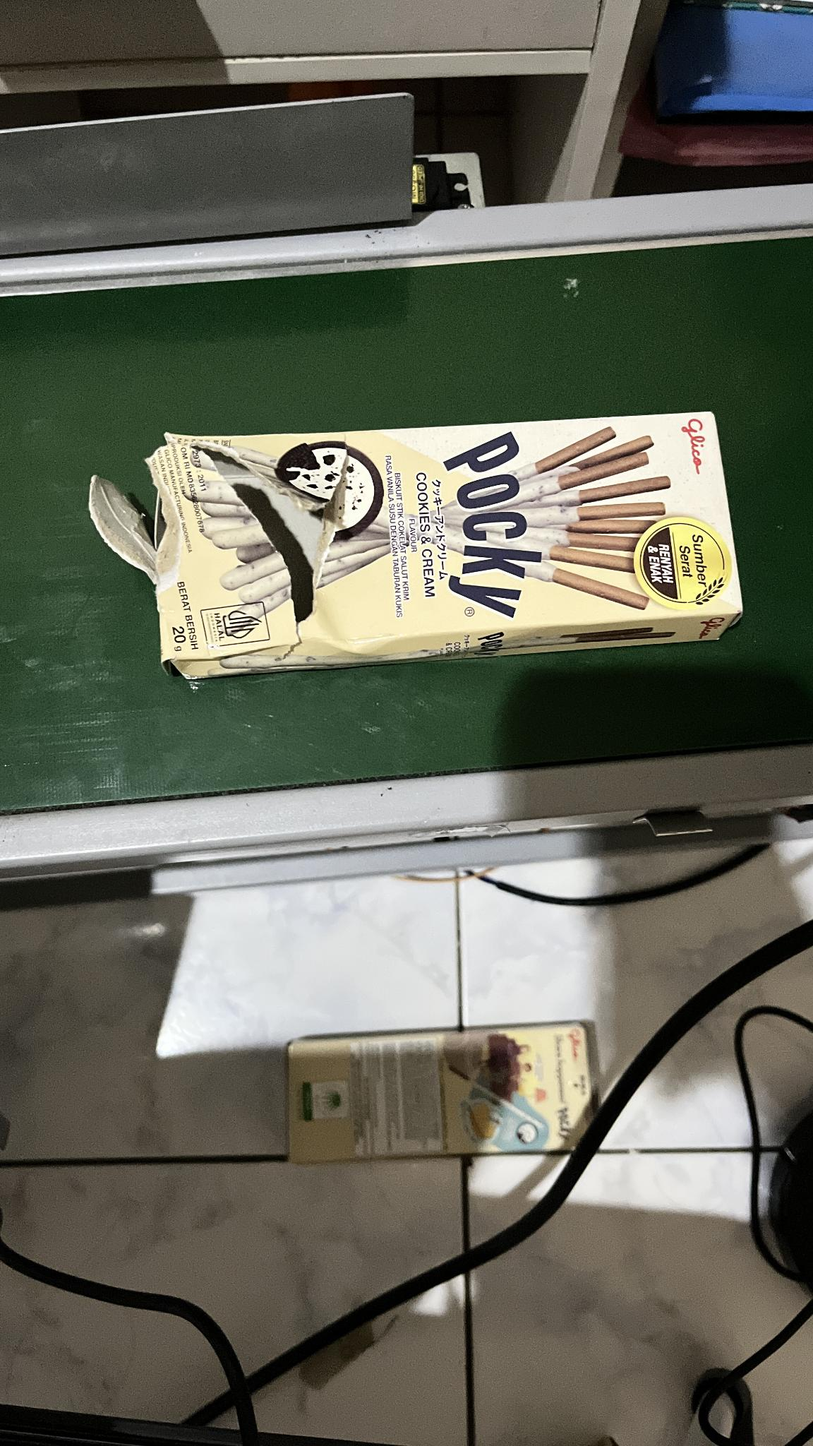Kertas: (147, 409, 746, 653)
